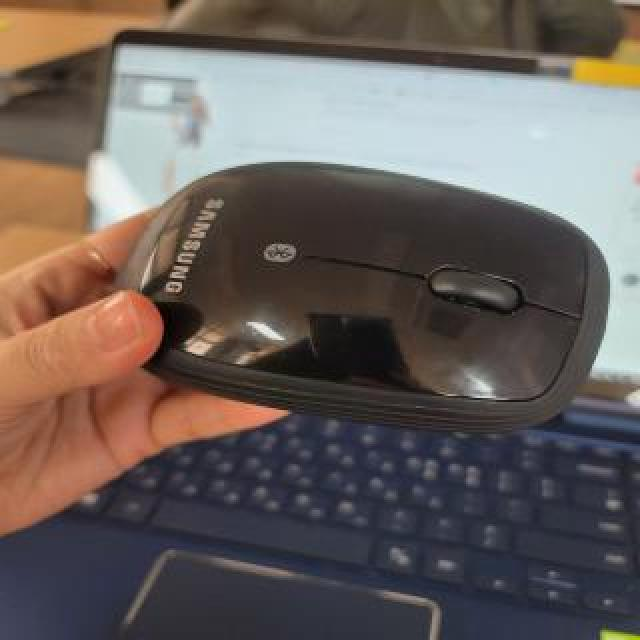laptop_computer: (72, 24, 640, 640)
mouse: (110, 159, 603, 435)
